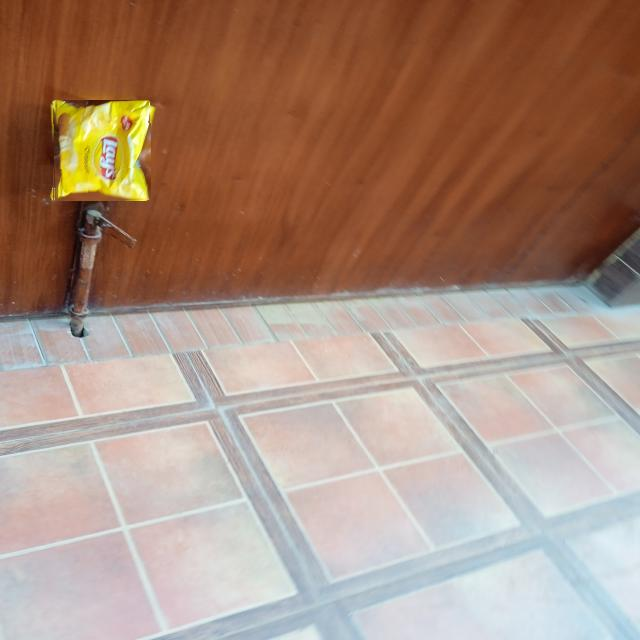Plastic: (52, 101, 151, 201)
